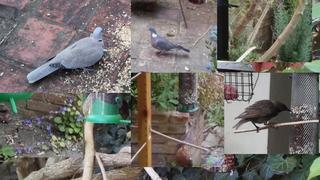collared dove: (27, 27, 104, 84)
starling: (232, 99, 292, 133)
wood pigeon: (147, 27, 190, 56)
